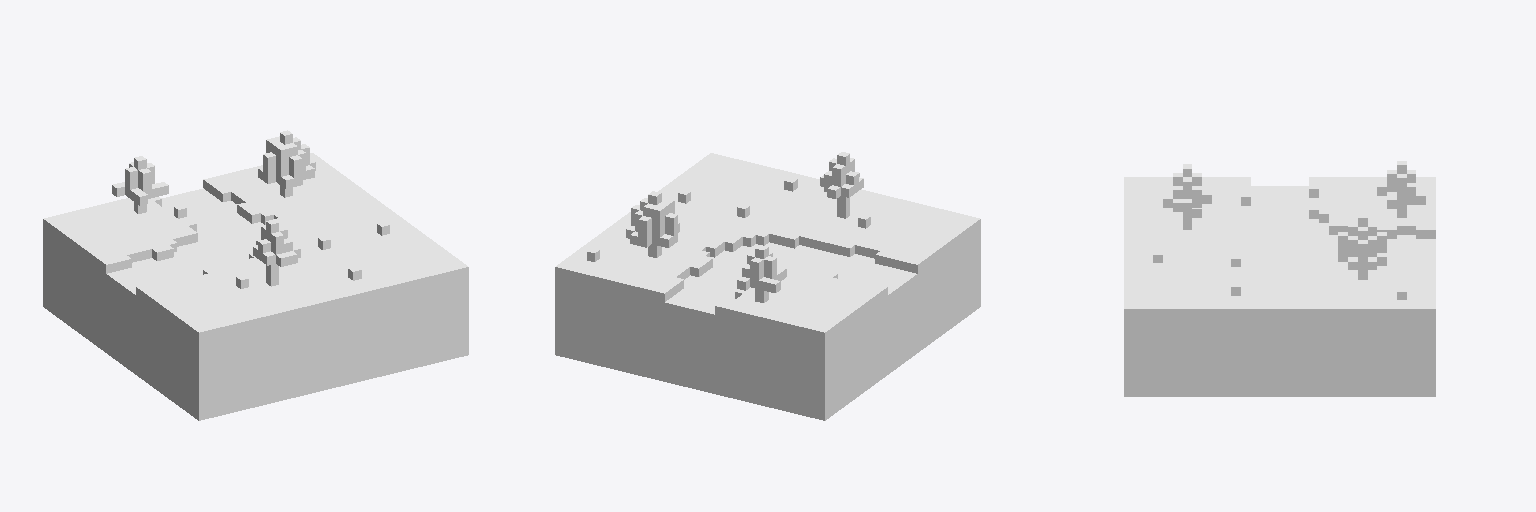
The model's file is Overworld_Land_07.obj.
3 renders of one model, left to right at view 1: azimuth 30°, elevation 25°; view 2: azimuth 150°, elevation 25°; view 3: azimuth 270°, elevation 25°, orthographic.
Visible parts, largest first — view 1: object 1; view 2: object 1; view 3: object 1.
Boxes of the visible parts, box(x1,y1,x2,y2) form: object 1: box(43, 130, 468, 420); object 1: box(555, 152, 980, 420); object 1: box(1124, 161, 1435, 396).
Size of the model in its own units: 3.2 by 1.7 by 3.2.